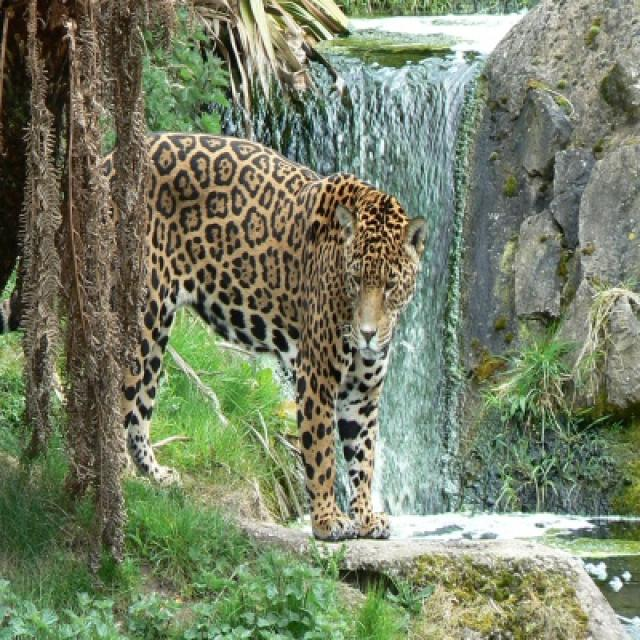Jaguar: (117, 133, 426, 542)
